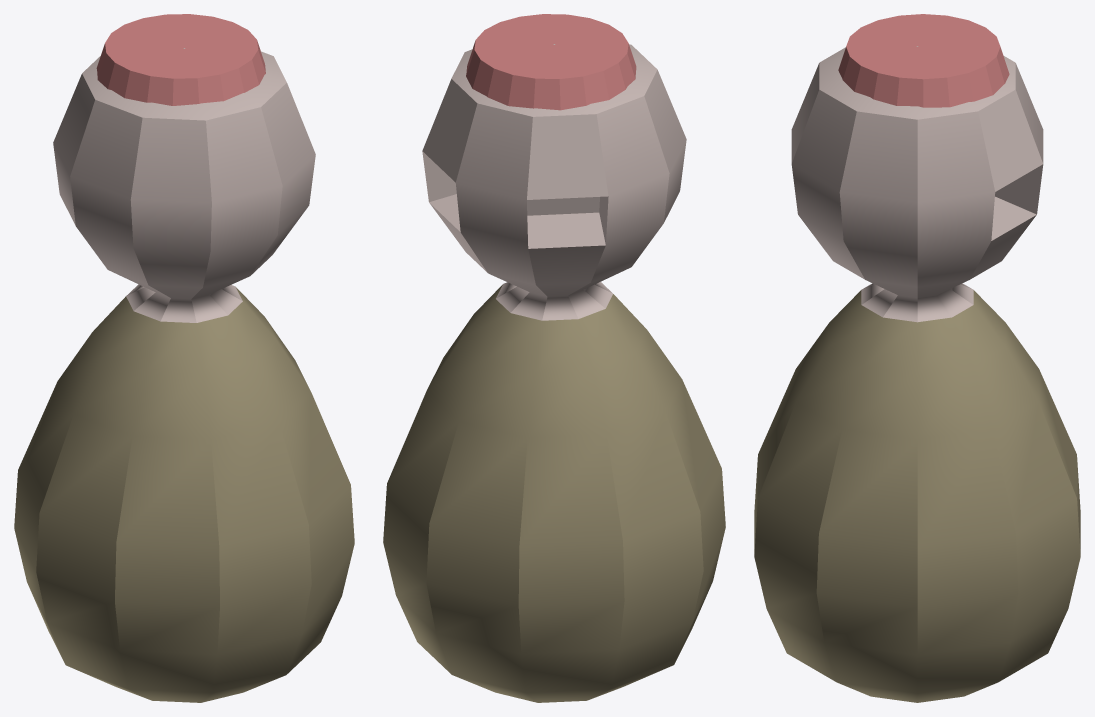
File: hindu.fbx
3 views of the same model, side by side, from view 1: azimuth 30°, elevation 25°; view 2: azimuth 150°, elevation 25°; view 3: azimuth 270°, elevation 25° (orthographic).
Visible parts, largest first — view 1: pCylinder10; view 2: pCylinder10; view 3: pCylinder10.
Part boxes in pixels (box(x1,y1,x2,y2)): pCylinder10: box(14, 14, 354, 702); pCylinder10: box(383, 14, 725, 702); pCylinder10: box(754, 14, 1080, 702).
Bounding box in the file's own units: 3.64 × 7.5 × 3.47.
